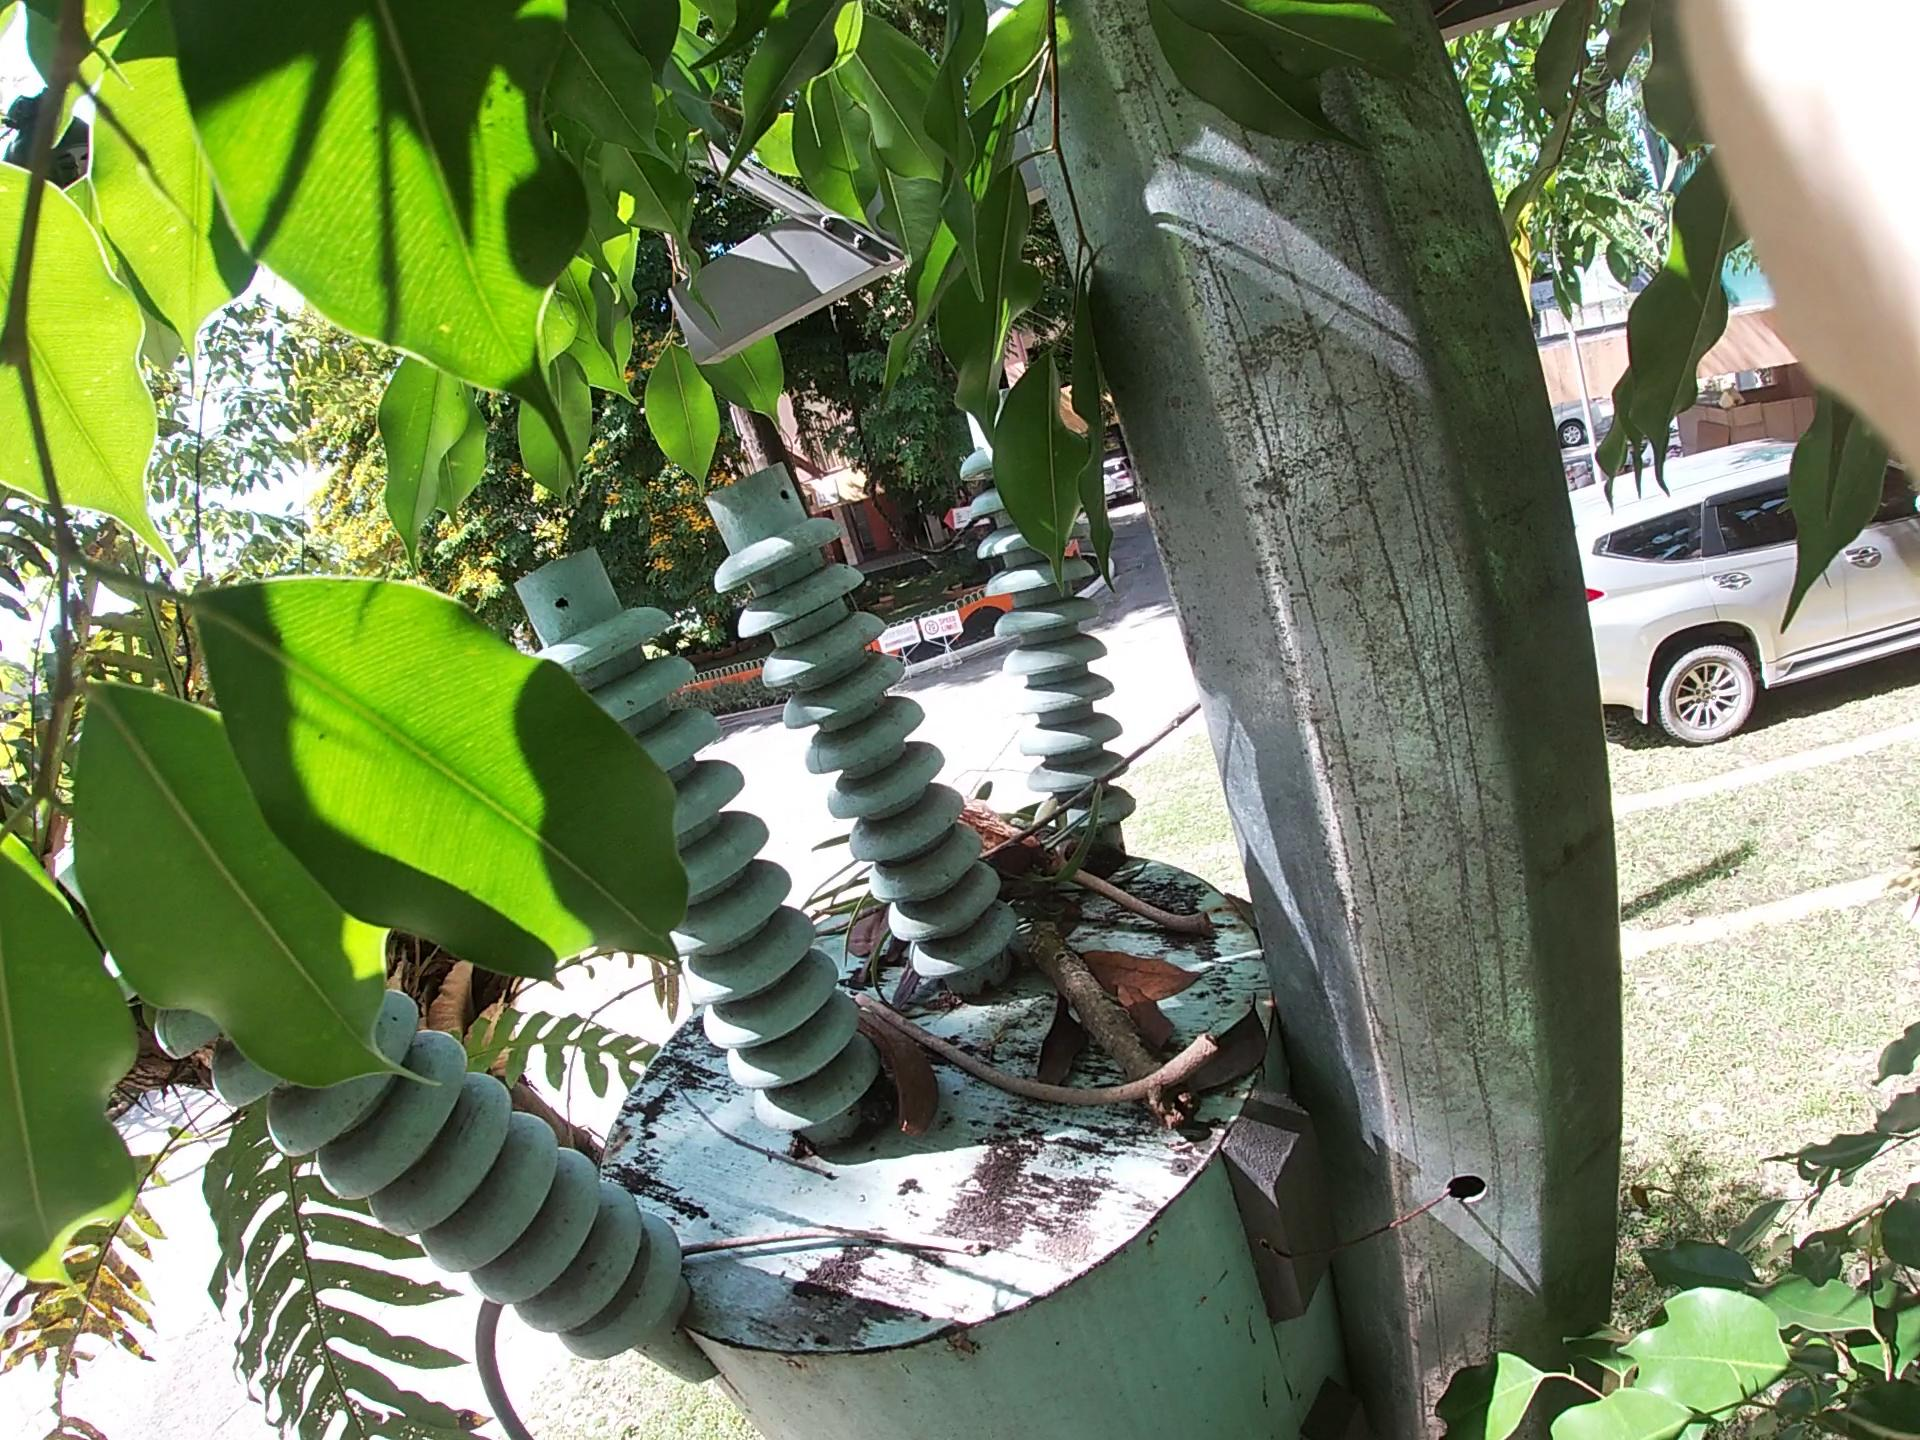leaf: (1043, 971, 1317, 1125)
tree branch: (523, 681, 1179, 953), (822, 957, 1179, 1113), (986, 809, 1228, 976), (1030, 883, 1194, 1124), (578, 1224, 948, 1277)
